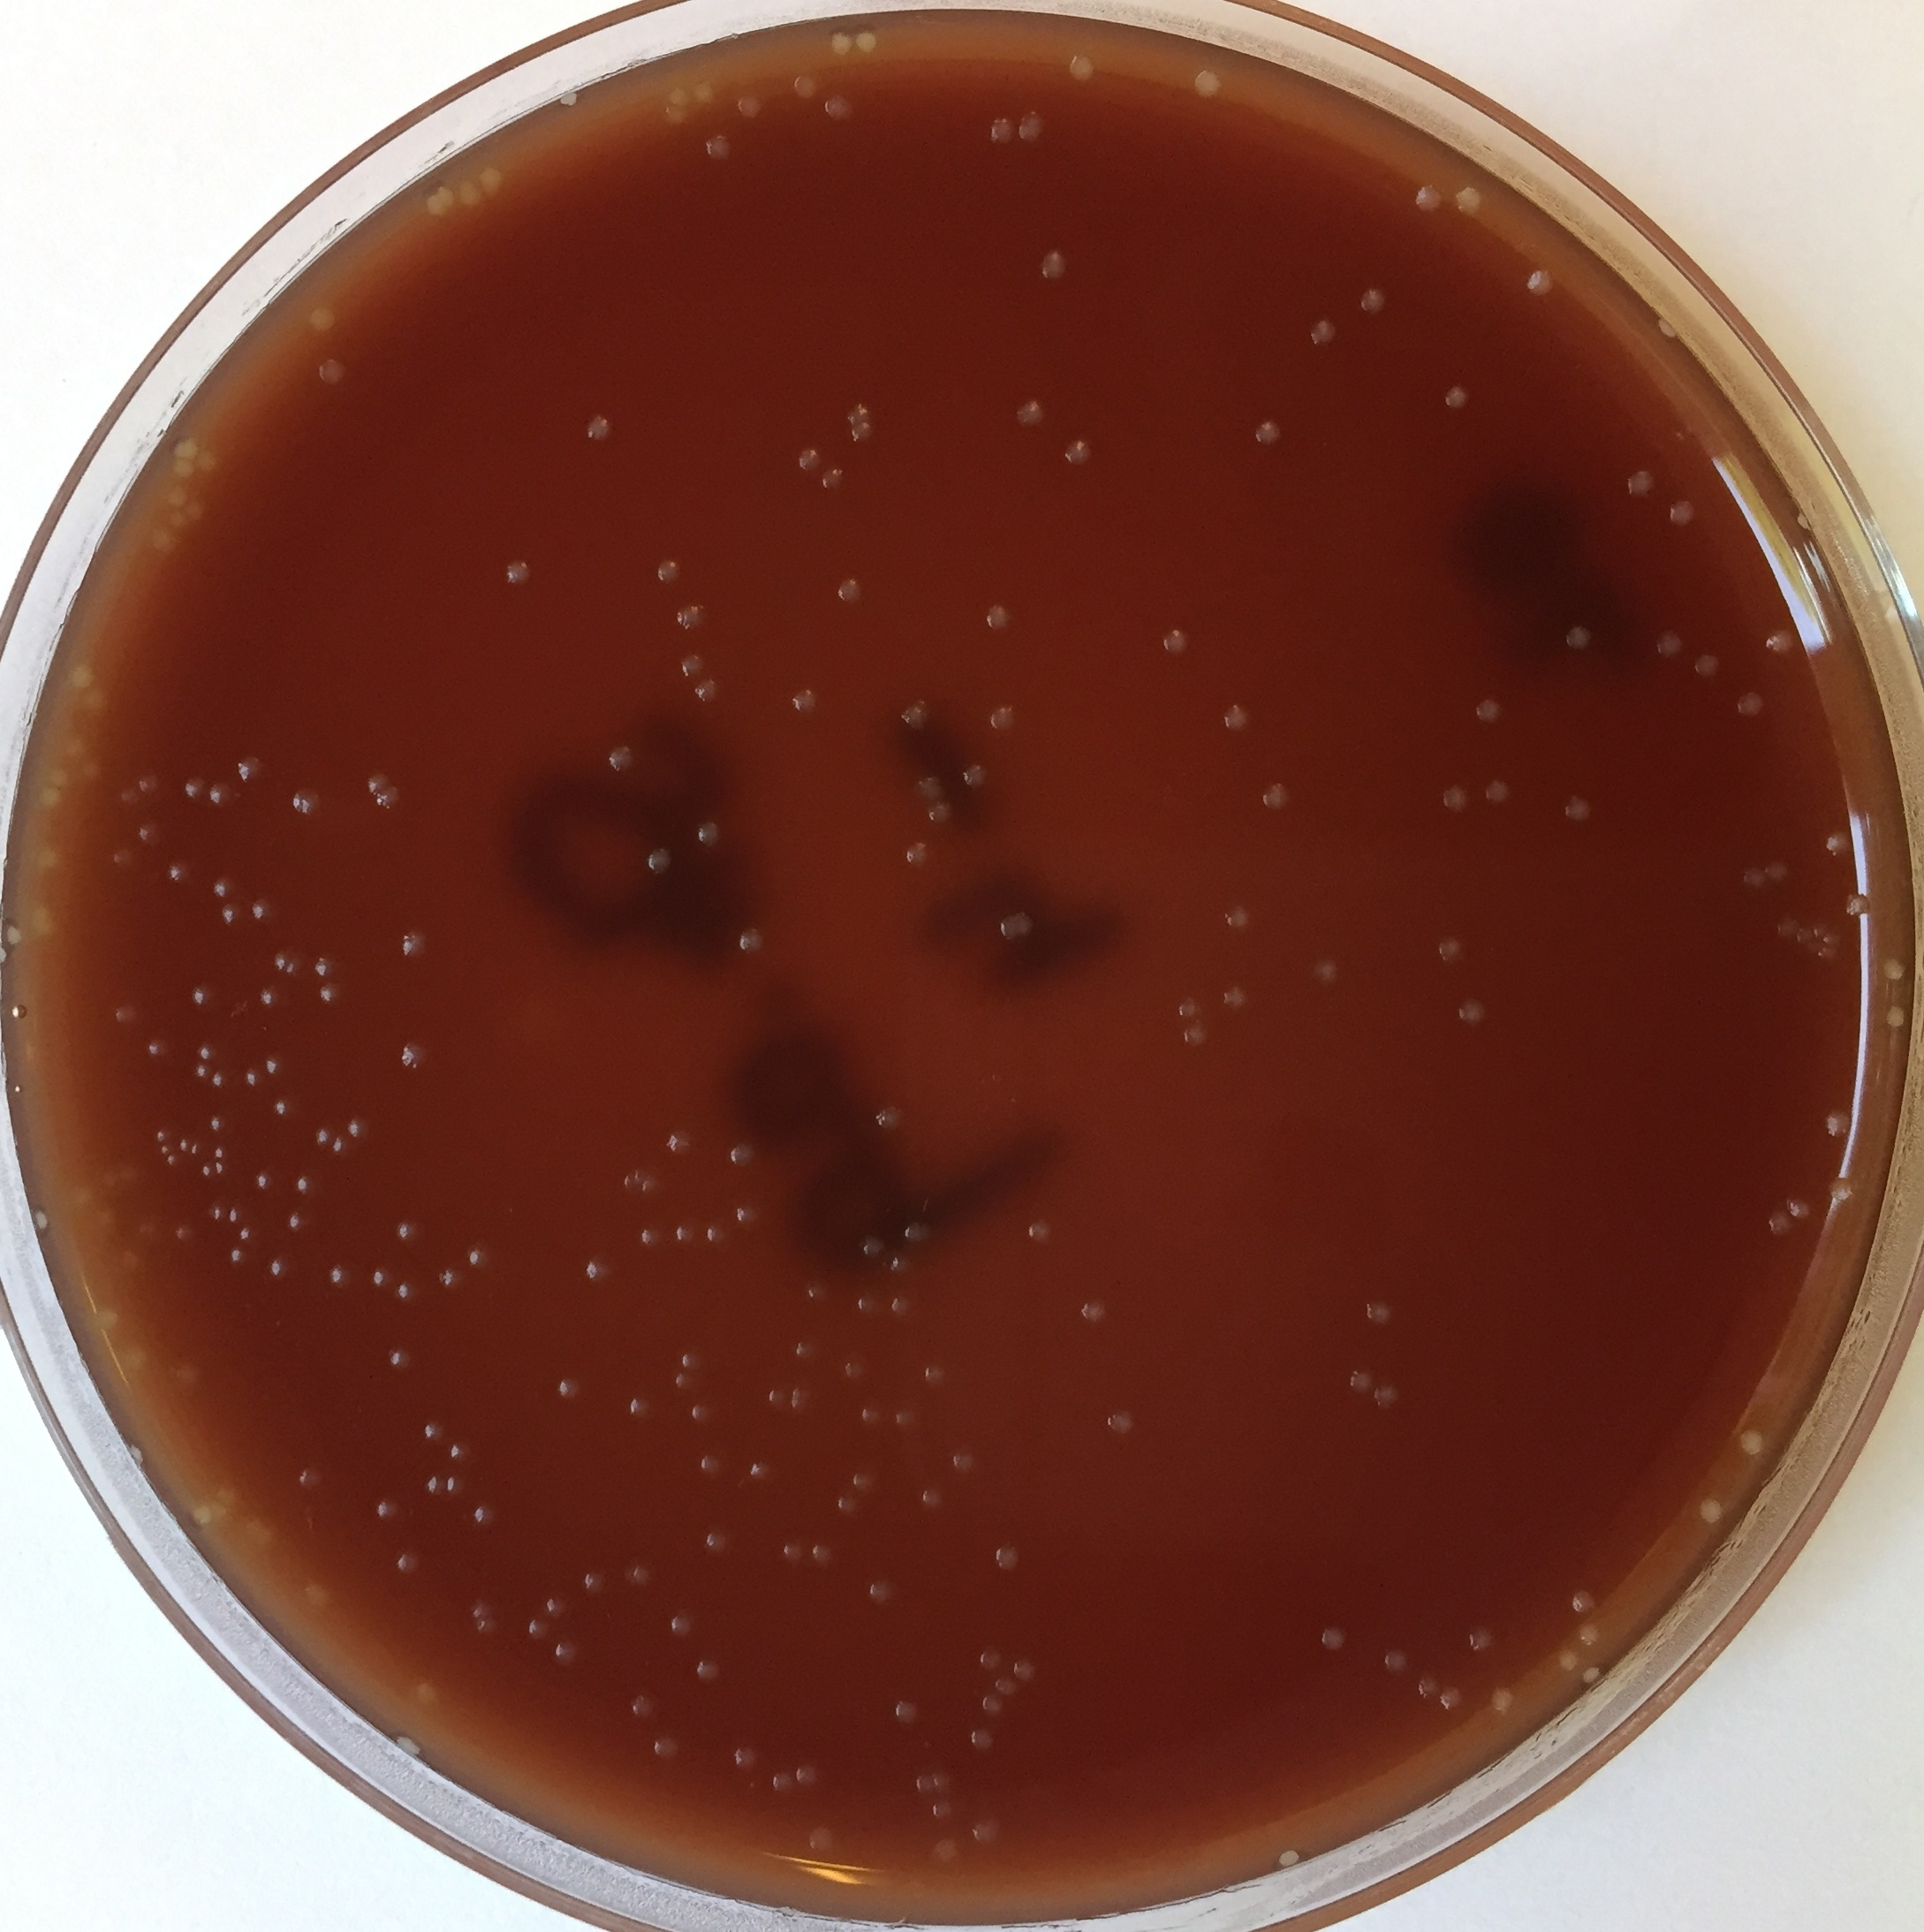sp23: (1193, 65, 1237, 114), (72, 692, 129, 727), (30, 898, 67, 949), (169, 1358, 210, 1402), (250, 1515, 289, 1560), (83, 1208, 129, 1245), (703, 134, 749, 171), (1434, 782, 1476, 817), (1013, 107, 1050, 146), (63, 653, 99, 694), (999, 909, 1036, 944), (1818, 1108, 1857, 1141), (1450, 185, 1489, 218), (314, 356, 352, 389), (1260, 778, 1295, 814), (1411, 181, 1447, 217), (550, 83, 587, 116), (1762, 625, 1799, 659), (1038, 248, 1075, 282), (1219, 701, 1254, 734), (248, 893, 284, 926), (398, 928, 433, 962), (1013, 396, 1047, 431), (1485, 1685, 1522, 1717), (289, 785, 326, 817), (412, 1680, 442, 1719), (932, 1832, 962, 1870), (967, 1814, 1006, 1844), (118, 1342, 152, 1375), (1561, 623, 1595, 657), (911, 771, 944, 805), (115, 1249, 146, 1284), (1691, 1495, 1727, 1527), (1623, 467, 1658, 498), (477, 169, 509, 204), (1464, 1624, 1496, 1657), (1825, 1173, 1857, 1206), (1665, 495, 1698, 527), (428, 185, 458, 220), (1380, 1647, 1415, 1677), (208, 780, 243, 810), (735, 926, 770, 956), (899, 699, 934, 729), (65, 1180, 93, 1217), (1455, 995, 1487, 1027), (583, 414, 615, 446), (1841, 891, 1875, 921), (1653, 629, 1686, 659), (988, 703, 1022, 733), (137, 1219, 166, 1254), (1269, 1842, 1304, 1870), (1732, 690, 1767, 719), (1059, 437, 1094, 465), (865, 1578, 897, 1608), (1180, 1020, 1210, 1051), (1691, 650, 1723, 680), (1253, 417, 1284, 447), (1358, 285, 1390, 315), (148, 525, 178, 557), (673, 601, 705, 630), (678, 650, 708, 682), (1369, 1381, 1401, 1411), (118, 1157, 146, 1191), (1737, 1428, 1765, 1462), (1559, 794, 1593, 822), (375, 785, 409, 814), (213, 1483, 240, 1518), (1825, 830, 1855, 859), (1436, 933, 1466, 963), (1526, 266, 1556, 296), (647, 847, 677, 877), (925, 800, 955, 830), (604, 743, 634, 773), (1106, 1407, 1136, 1437), (326, 1263, 358, 1291), (1311, 956, 1343, 984), (1307, 319, 1339, 347), (823, 93, 855, 122), (1069, 53, 1098, 85), (985, 602, 1017, 630), (694, 1659, 728, 1685), (1780, 1194, 1813, 1220), (310, 1587, 340, 1615), (402, 1039, 430, 1069), (111, 1000, 141, 1029), (144, 1036, 174, 1064), (994, 1543, 1022, 1573), (1318, 1624, 1348, 1652), (1219, 983, 1247, 1013), (1482, 775, 1510, 805), (733, 95, 763, 123), (307, 303, 335, 333), (664, 1129, 694, 1157), (1080, 1294, 1108, 1324), (696, 819, 724, 849), (960, 763, 990, 791), (627, 1692, 659, 1719), (805, 1826, 837, 1853), (1475, 697, 1506, 724), (1441, 386, 1473, 412), (987, 116, 1018, 143), (453, 180, 485, 206), (164, 483, 196, 509), (902, 1217, 934, 1243), (872, 1106, 904, 1132), (544, 1592, 573, 1620), (1577, 1619, 1605, 1647), (1550, 1648, 1579, 1677), (791, 76, 819, 104), (236, 754, 264, 782), (164, 858, 192, 886), (835, 578, 863, 606), (79, 757, 106, 787), (395, 1550, 425, 1576), (581, 1571, 611, 1597), (650, 1735, 680, 1761), (181, 775, 211, 801), (728, 1141, 758, 1168), (818, 467, 847, 493), (1346, 1365, 1376, 1391), (93, 1166, 118, 1198), (500, 564, 532, 588), (793, 447, 825, 472), (856, 1233, 890, 1256), (189, 984, 217, 1011), (393, 1217, 421, 1243), (553, 1638, 580, 1666), (994, 1673, 1022, 1700), (795, 1761, 823, 1788), (1570, 1589, 1598, 1615), (1737, 865, 1765, 891), (825, 30, 853, 56), (211, 874, 240, 900), (921, 1361, 950, 1388), (881, 1247, 909, 1273), (1161, 629, 1189, 655), (694, 676, 722, 703), (1364, 1298, 1392, 1324), (375, 1499, 405, 1523), (809, 1543, 839, 1567), (1011, 1657, 1041, 1682), (173, 437, 203, 461), (220, 898, 245, 928), (895, 1698, 921, 1724), (1438, 1687, 1464, 1714), (1764, 858, 1790, 884), (888, 1293, 914, 1319), (638, 1224, 664, 1250), (388, 1346, 416, 1370), (668, 1611, 696, 1636), (967, 1726, 995, 1751), (1024, 1219, 1052, 1243), (37, 847, 67, 870), (395, 1279, 425, 1302), (296, 1467, 326, 1490), (523, 1617, 553, 1640), (631, 1178, 662, 1199), (661, 104, 692, 125), (97, 1307, 122, 1333), (183, 1502, 210, 1527), (1415, 1673, 1439, 1700), (1765, 1212, 1792, 1236), (1221, 905, 1247, 930), (365, 770, 391, 794), (136, 821, 160, 847), (312, 953, 338, 977), (855, 1293, 881, 1317), (892, 1405, 918, 1430), (902, 842, 927, 868), (654, 558, 680, 583), (791, 687, 816, 713), (197, 1039, 226, 1062), (1580, 1663, 1609, 1685), (853, 32, 881, 55), (169, 458, 197, 481), (192, 451, 215, 479), (137, 771, 166, 794), (733, 1205, 761, 1228), (437, 1268, 467, 1289), (465, 1247, 495, 1268), (745, 1462, 775, 1483), (664, 86, 694, 107), (37, 785, 62, 810), (263, 1051, 287, 1076), (980, 1647, 1004, 1671), (768, 1770, 793, 1795), (1776, 918, 1801, 942), (844, 1356, 869, 1381), (803, 1280, 828, 1305), (319, 983, 345, 1006), (294, 1175, 321, 1198), (419, 1420, 446, 1442), (629, 1562, 655, 1585), (951, 1453, 978, 1476), (1880, 956, 1906, 979), (847, 423, 874, 446), (448, 1439, 476, 1460), (615, 1168, 634, 1198), (370, 1265, 395, 1287), (442, 1474, 467, 1497), (472, 1502, 497, 1525), (557, 1377, 581, 1400), (835, 1492, 860, 1515), (851, 1471, 876, 1493), (918, 1485, 943, 1508), (980, 1694, 1004, 1717), (929, 1798, 953, 1821), (731, 1745, 754, 1770), (1882, 1004, 1906, 1027), (678, 1349, 703, 1372), (795, 1338, 819, 1361), (585, 1259, 611, 1280), (625, 1397, 652, 1418), (425, 1474, 448, 1497), (699, 1453, 722, 1476), (703, 1529, 726, 1552), (781, 1541, 803, 1564), (1177, 995, 1200, 1018), (675, 1222, 698, 1245), (847, 402, 870, 424), (174, 1222, 199, 1243), (691, 1400, 715, 1421), (469, 1599, 493, 1620), (241, 1067, 264, 1088), (266, 1256, 289, 1277), (476, 1615, 499, 1636), (705, 1222, 728, 1243), (257, 988, 282, 1007), (345, 1118, 370, 1138), (930, 1772, 950, 1796), (694, 81, 712, 107), (255, 1169, 277, 1191), (236, 1224, 257, 1245), (196, 1159, 218, 1178), (208, 1201, 227, 1224), (113, 847, 136, 866), (860, 1405, 883, 1425), (120, 785, 141, 805), (208, 1069, 227, 1090), (271, 1097, 291, 1118), (213, 1157, 234, 1176), (287, 1210, 307, 1231), (227, 1245, 247, 1266), (914, 1772, 934, 1793), (273, 949, 292, 970), (675, 1372, 696, 1391), (1818, 944, 1841, 962), (333, 1136, 352, 1155), (208, 1113, 226, 1134), (765, 1386, 782, 1407), (49, 770, 69, 787), (155, 1129, 174, 1147), (226, 1205, 245, 1222), (314, 1127, 333, 1143), (629, 1171, 647, 1187), (196, 1062, 211, 1080), (176, 1138, 192, 1155), (211, 1143, 229, 1159), (159, 1141, 176, 1155), (164, 1154, 181, 1168), (791, 1386, 807, 1400), (190, 1141, 204, 1155)
